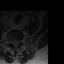CCS_normal: (14, 40, 16, 47)
LFS_severe_stenosis: (18, 38, 20, 44)
LLS_normal: (16, 40, 18, 46)
RFS_stenosis: (10, 39, 12, 44)
RLS_normal: (12, 40, 14, 46)
